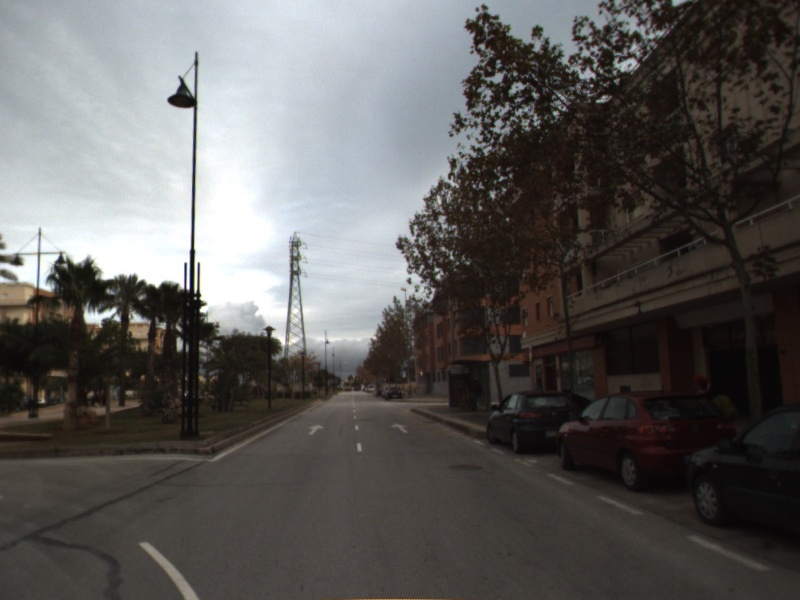STRAIGHT: (306, 422, 327, 437), (389, 421, 410, 435)
